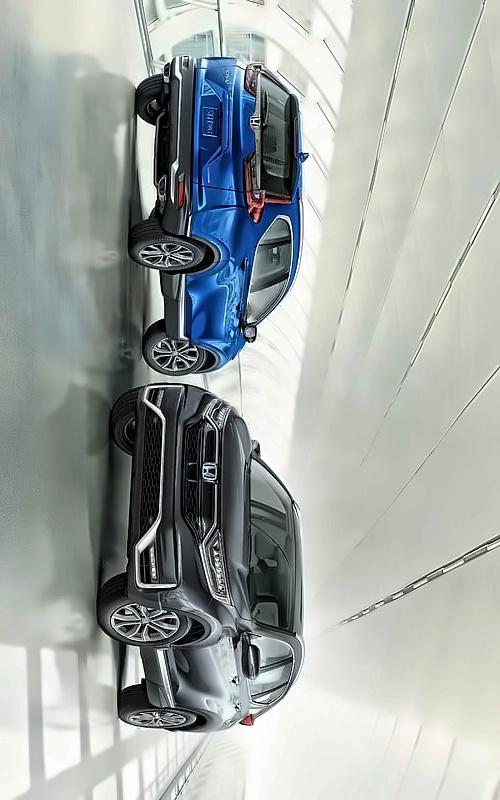Car boot: (188, 40, 300, 200)
Car hood: (220, 404, 251, 611)
Driver-s door - -F-R-: (187, 265, 300, 342)
Fender - -F-L-: (143, 599, 247, 659)
Fender - -F-R-: (163, 330, 239, 382)
Fender - -R-L-: (139, 707, 253, 747)
Front bumper: (124, 386, 200, 617)
Headlight - -L-: (200, 522, 237, 620)
Headlight - -R-: (200, 386, 238, 442)
Passenger-s door - -F-L-: (172, 631, 300, 685)
Passenger-s door - -R-L-: (176, 681, 300, 716)
Passenger-s door - -R-R-: (193, 209, 317, 274)
Rear bumper: (164, 50, 248, 221)
Rear light - -L-: (236, 712, 271, 736)
Rear light - -R-: (227, 183, 271, 229)
Side bumper - -L-: (137, 640, 180, 716)
Side bumper - -R-: (156, 265, 192, 342)
Side mirror - -L-: (229, 630, 264, 692)
Side mirror - -R-: (244, 432, 270, 472), (234, 314, 264, 348)
